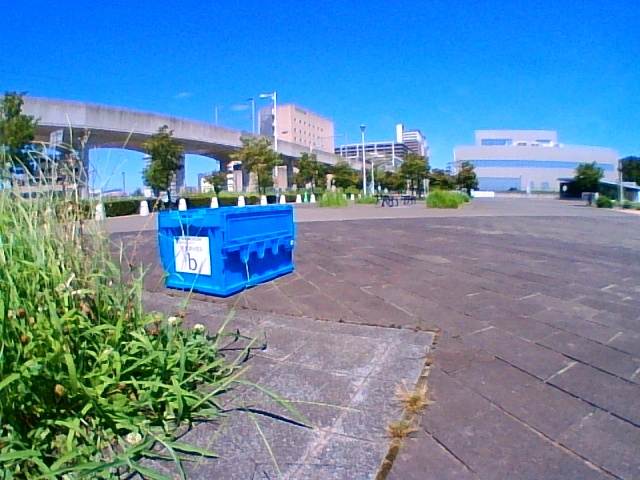blue_box: (165, 211, 279, 276)
tag_b: (176, 239, 209, 273)
